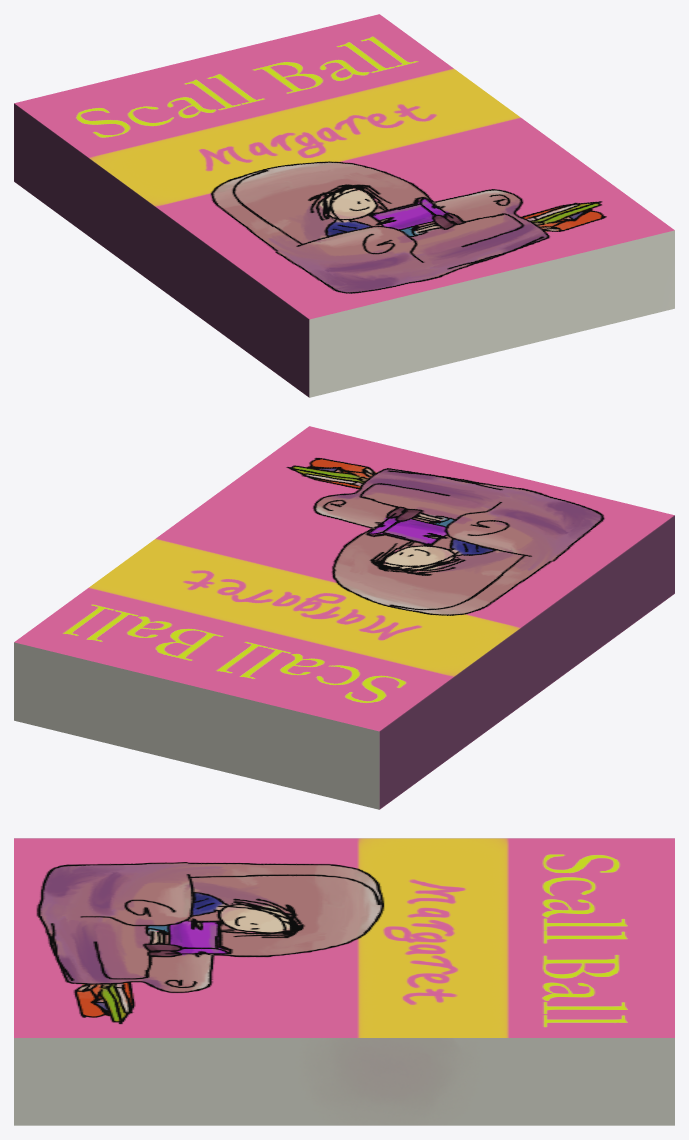
File: paper book.fbx
3 renders of one model, top to bottom at view 1: azimuth 30°, elevation 25°; view 2: azimuth 150°, elevation 25°; view 3: azimuth 270°, elevation 25°, orthographic. The views are drawn at different scales.
Visible parts, largest first — view 1: pPlane1; view 2: pPlane1; view 3: pPlane1.
Part boxes in pixels (x1,y1,x2,y2): pPlane1: [14, 14, 674, 397]; pPlane1: [14, 426, 674, 809]; pPlane1: [14, 838, 674, 1125].
Bounding box in the file's own units: 9.97 × 2.04 × 13.95.
1 material, 1 textured.
